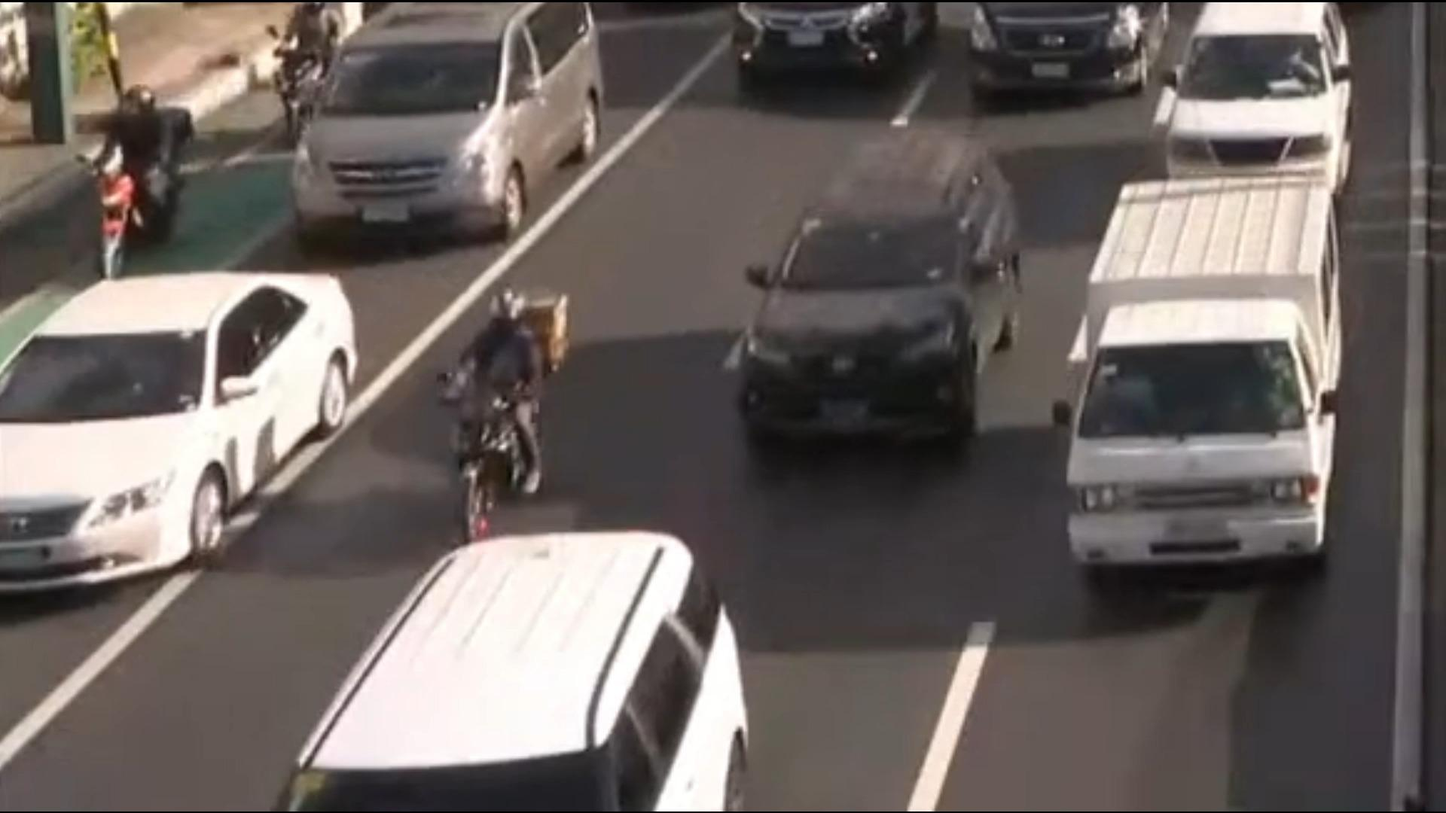Motorcycle: (387, 245, 625, 574), (52, 59, 224, 279), (273, 0, 362, 152)
Multicab: (1022, 172, 1380, 608)
SUV: (266, 525, 799, 813), (706, 111, 1075, 477), (1138, 0, 1407, 200)
Sedan: (0, 245, 381, 648)
Van: (262, 0, 622, 258)
